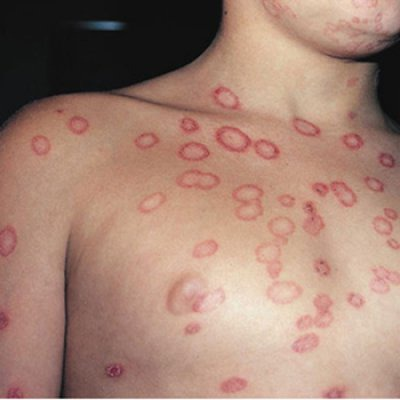Ringworm: (248, 239, 294, 279), (184, 229, 229, 268), (127, 183, 178, 217), (214, 120, 256, 161), (191, 282, 233, 318), (202, 83, 251, 113), (212, 369, 259, 400), (368, 257, 400, 302), (233, 183, 268, 222), (0, 219, 26, 269), (308, 292, 341, 331), (367, 204, 400, 243), (329, 174, 360, 214), (268, 278, 306, 310), (291, 106, 320, 147), (301, 203, 330, 243), (22, 127, 56, 161), (286, 330, 328, 357), (308, 256, 342, 287), (267, 209, 302, 239), (178, 171, 223, 193), (98, 358, 133, 386), (178, 139, 212, 167), (254, 133, 282, 166), (62, 114, 94, 141), (363, 172, 391, 201), (343, 288, 368, 319), (130, 130, 163, 152), (178, 111, 202, 138), (340, 131, 369, 153), (307, 177, 334, 200), (177, 319, 211, 337), (381, 234, 400, 263), (279, 188, 298, 213), (379, 149, 398, 173)
